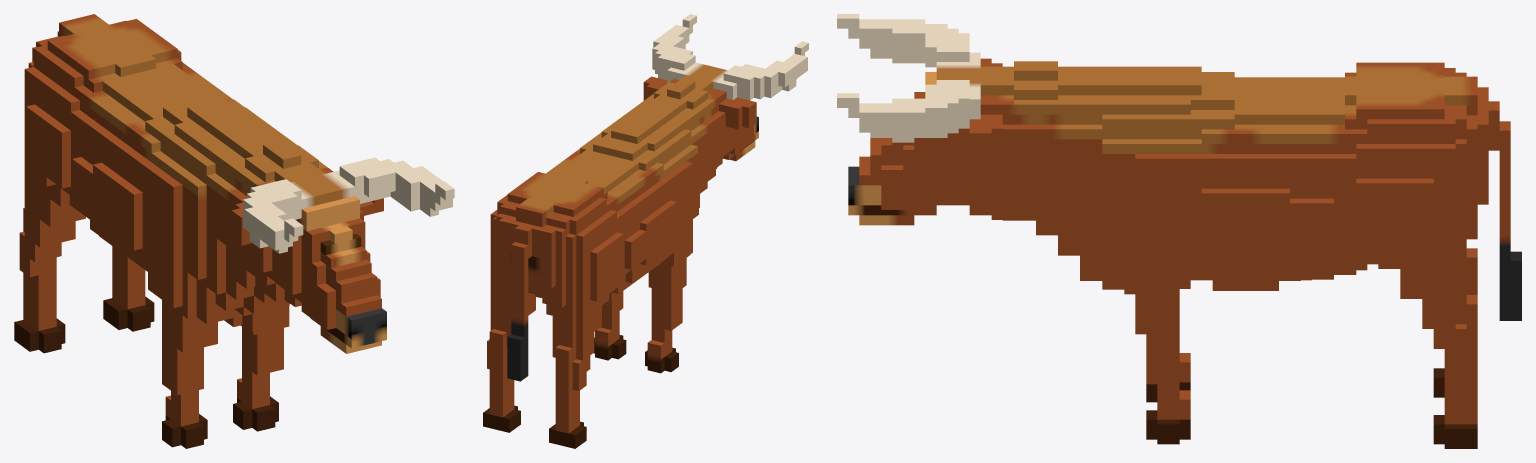
The model's file is auroch.fbx.
3 renders of one model, left to right at view 1: azimuth 30°, elevation 25°; view 2: azimuth 150°, elevation 25°; view 3: azimuth 270°, elevation 25°, orthographic. The views are drawn at different scales.
Parts seen in each view (by area): view 1: auroch; view 2: auroch; view 3: auroch.
Boxes of the visible parts, left/top/right/bottom form: auroch: left=14, top=14, right=454, bottom=448; auroch: left=483, top=14, right=808, bottom=448; auroch: left=837, top=14, right=1521, bottom=448.
Bounding box in the file's own units: 20 × 36 × 62.
1 material, 1 textured.
